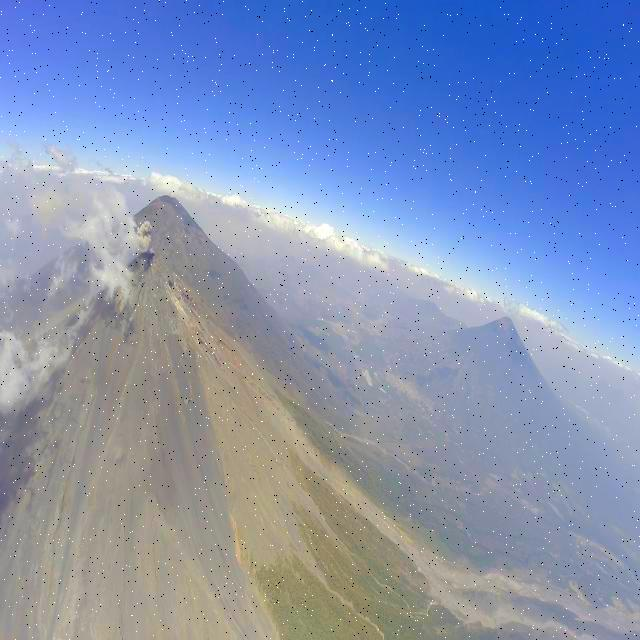Plume: (138, 216, 156, 248)
Summit: (91, 251, 206, 334)
